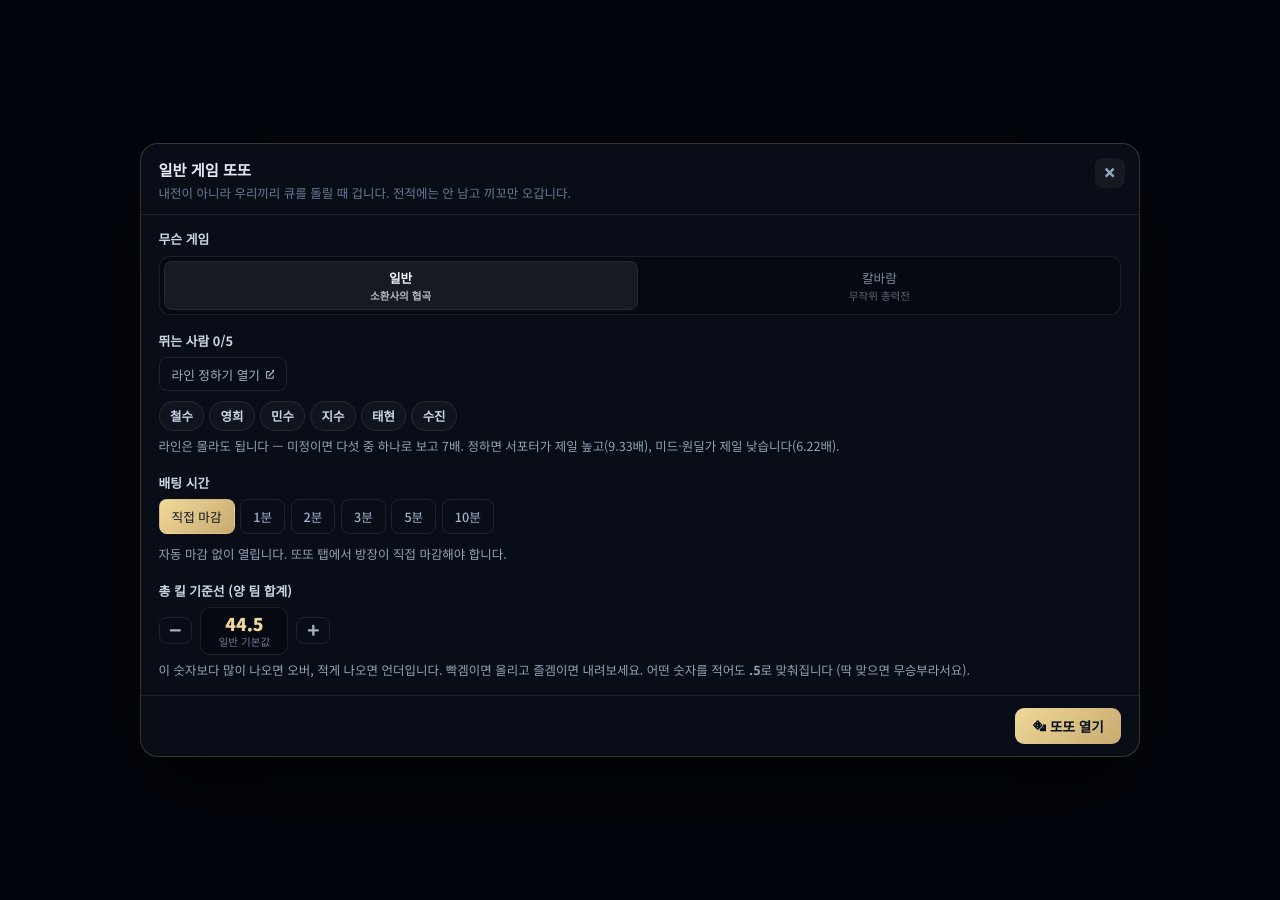
Scenario: 다섯 명이 차면 더 못 고른다
Click the button with class "casual-chip" showing "철수" at x=181, y=416, box left=159, top=401, right=204, bottom=431
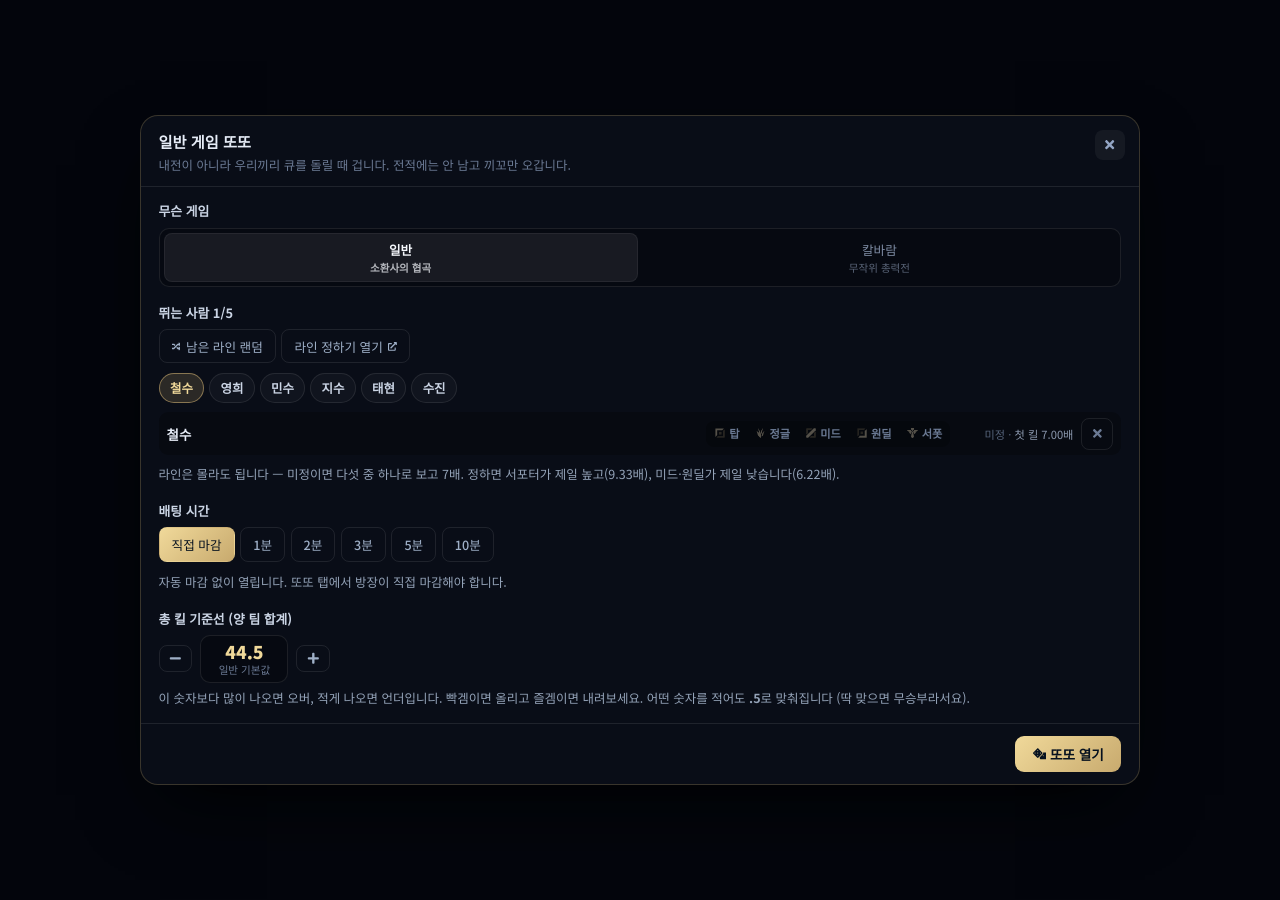
Click the button with class "casual-chip" showing "영희" at x=232, y=388, box left=209, top=373, right=255, bottom=403
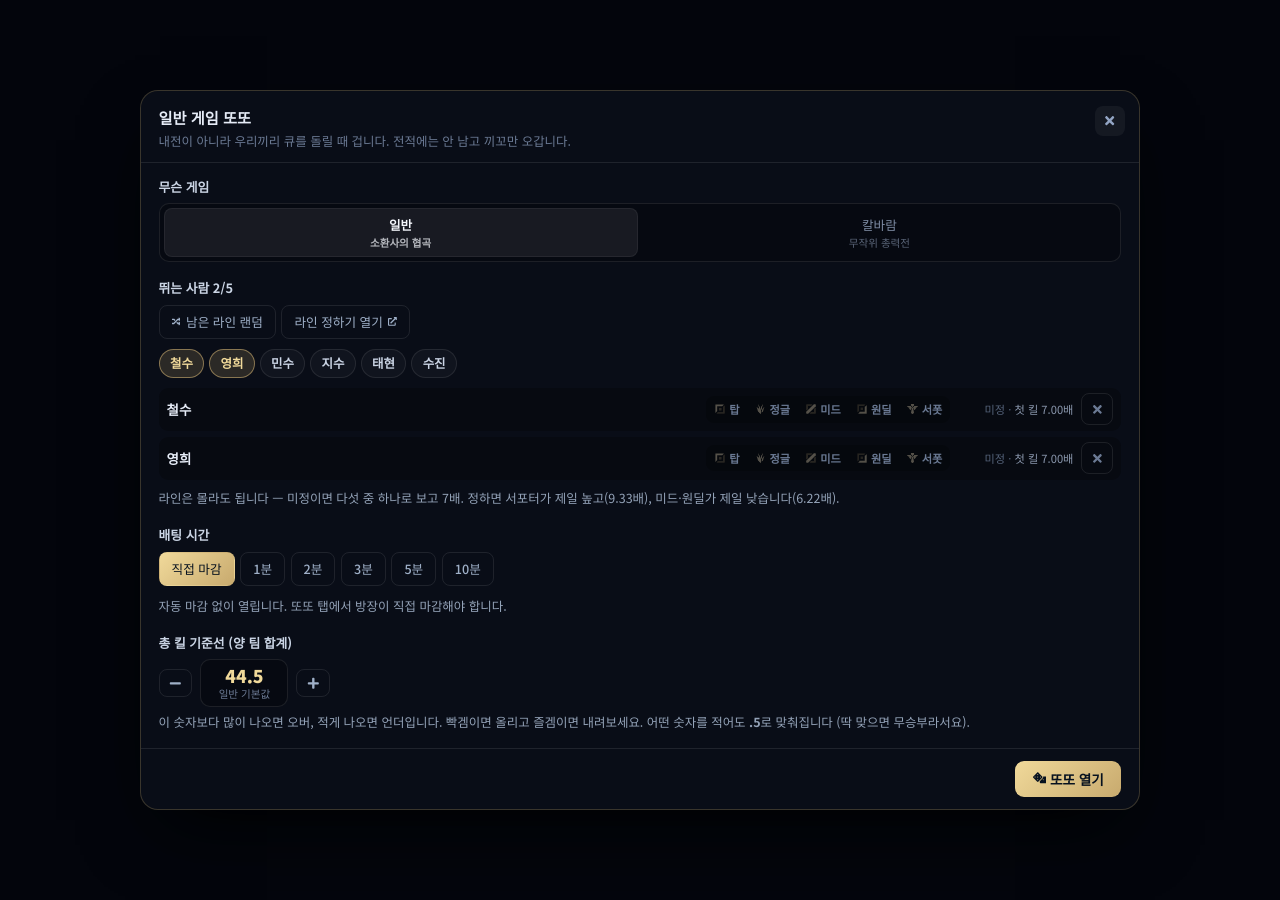
Click the button with class "casual-chip" showing "민수" at x=283, y=363, box left=260, top=349, right=305, bottom=378
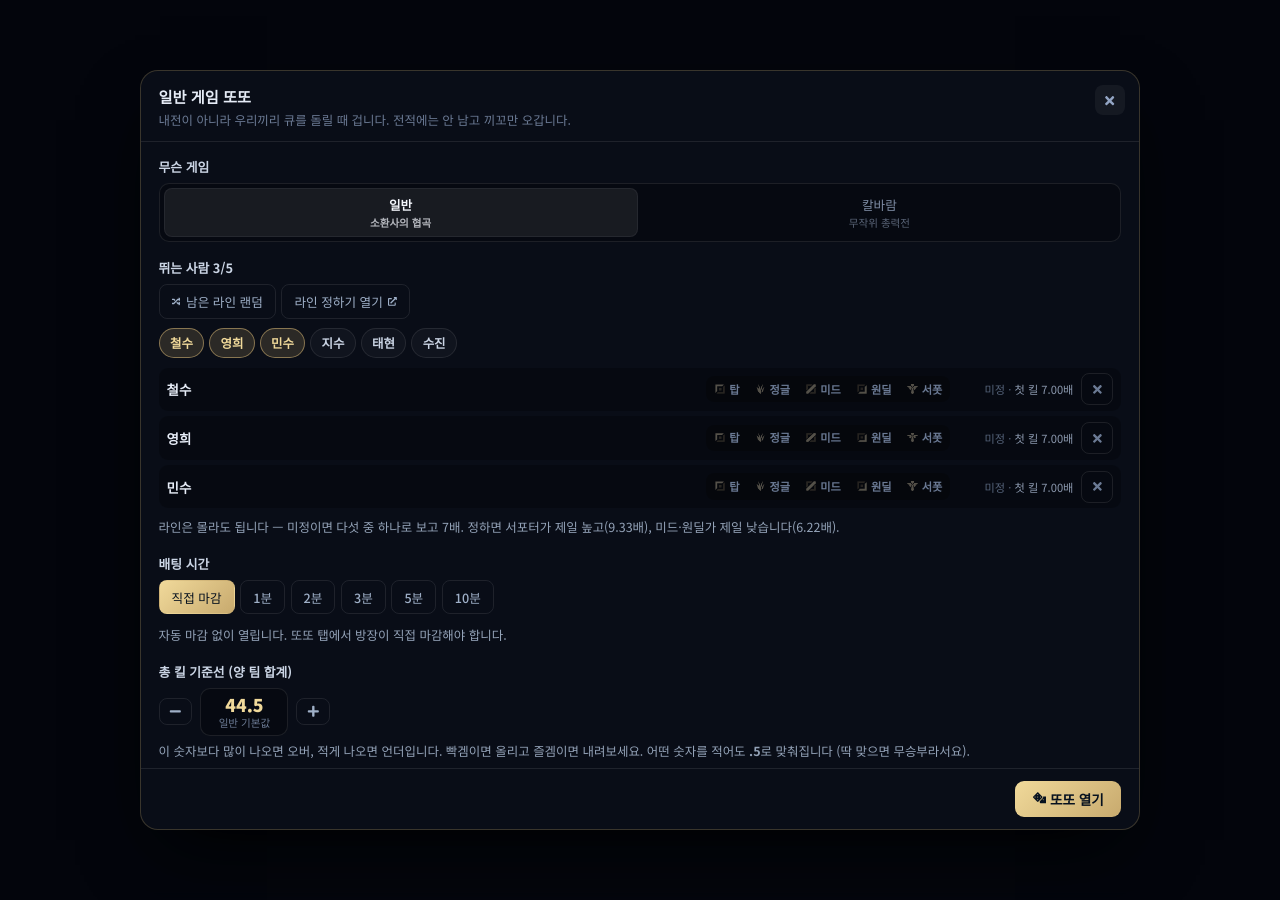
Click the button with class "casual-chip" showing "지수" at x=333, y=343, box left=310, top=328, right=356, bottom=358
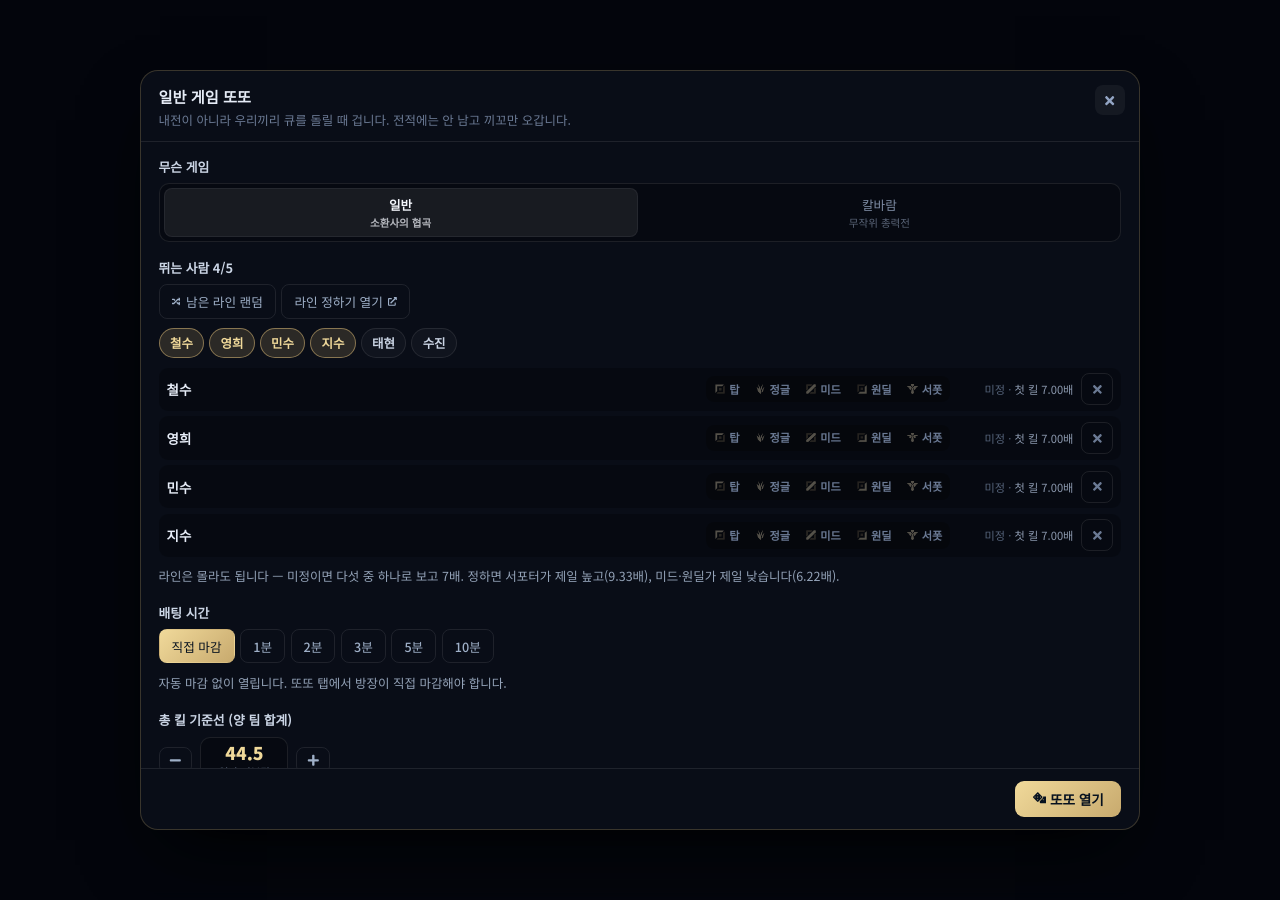
Click the button with class "casual-chip" showing "태현" at x=384, y=343, box left=361, top=328, right=406, bottom=358
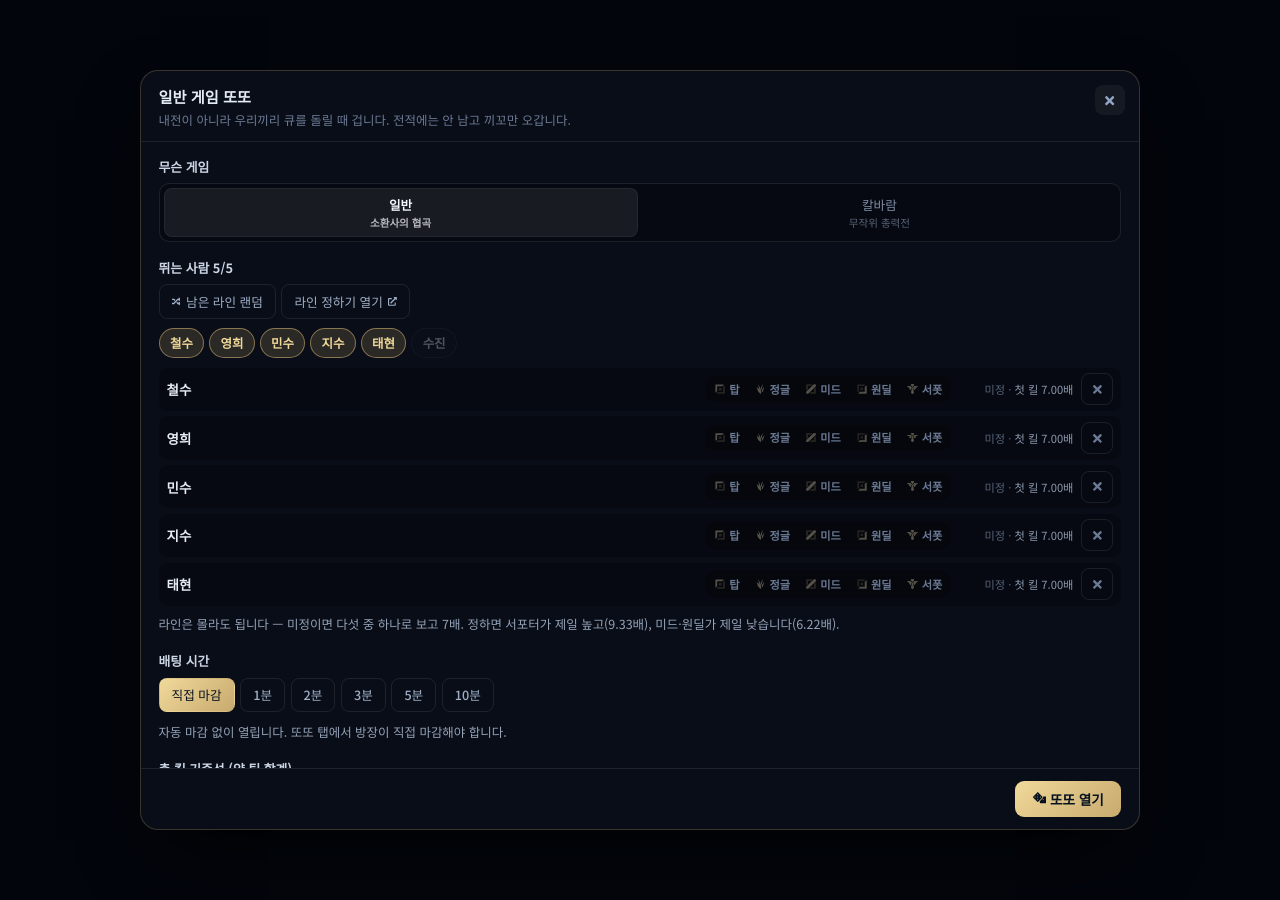
Expected: the button with class "casual-chip" showing "수진" is disabled, left=411, top=328, right=457, bottom=358
